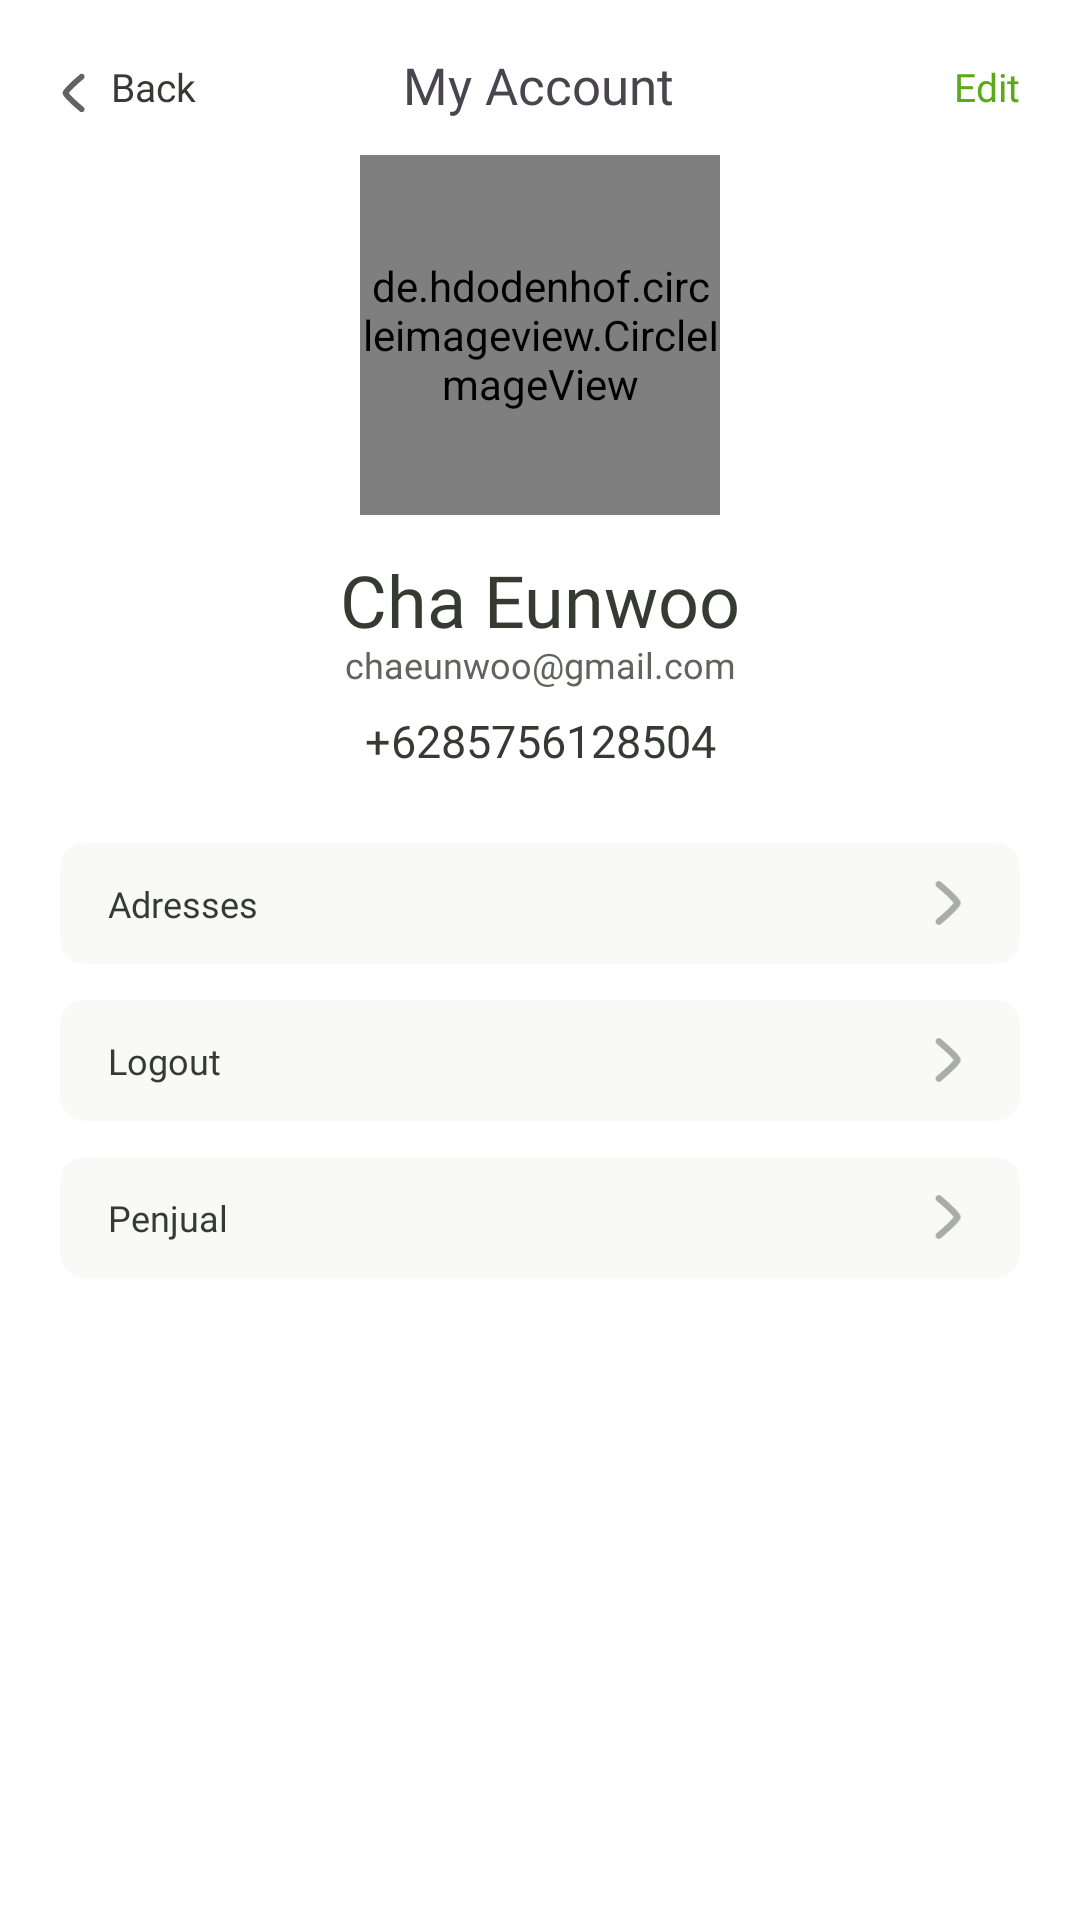

Named icons in this screenshot (1080px×1920px) and their bounding boxes, (x1, y1, x2, y2):
next: (935, 881, 961, 925), (935, 1038, 961, 1082), (935, 1195, 961, 1239)
